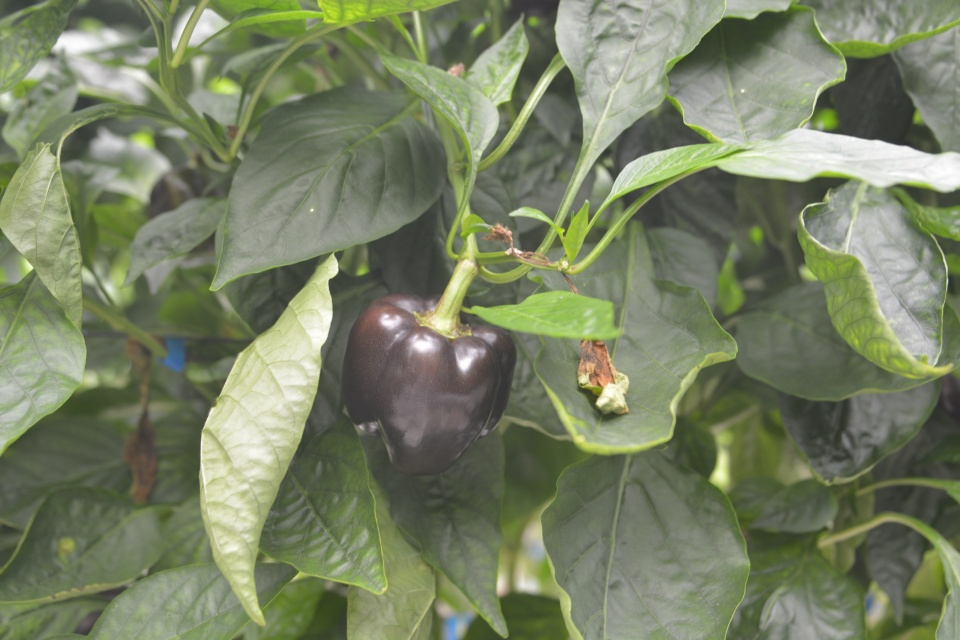fruit: (339, 290, 523, 480)
pedicle: (417, 309, 470, 338)
